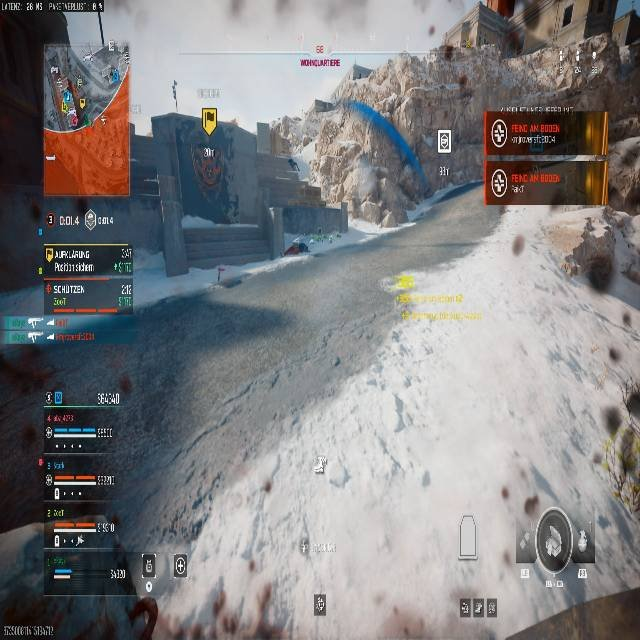player: (282, 238, 310, 256)
